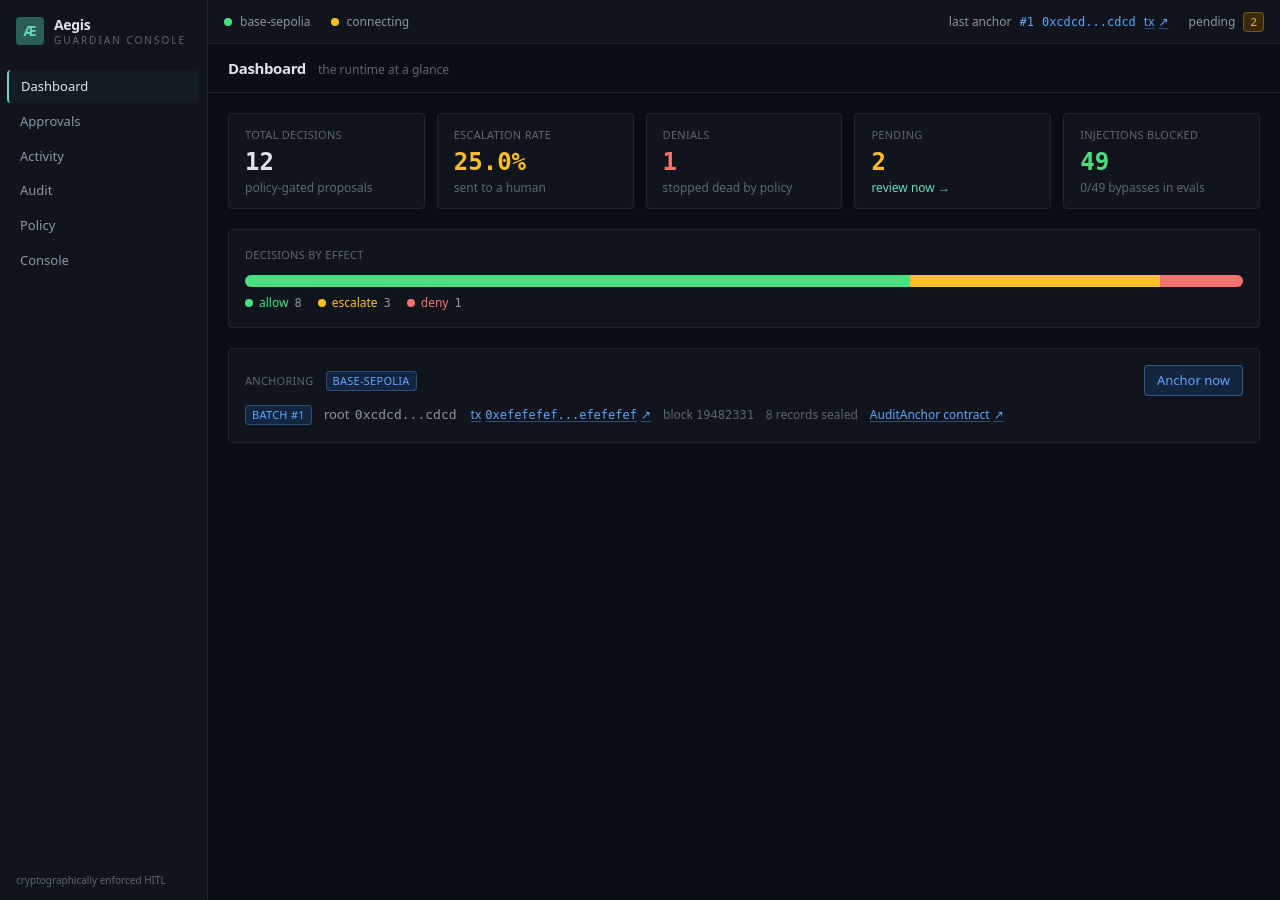
Test case: DashboardPage › anchors on demand and shows the new transaction link
Click the button "Anchor now". click: x=1193, y=381
box: [1144,365,1243,396]
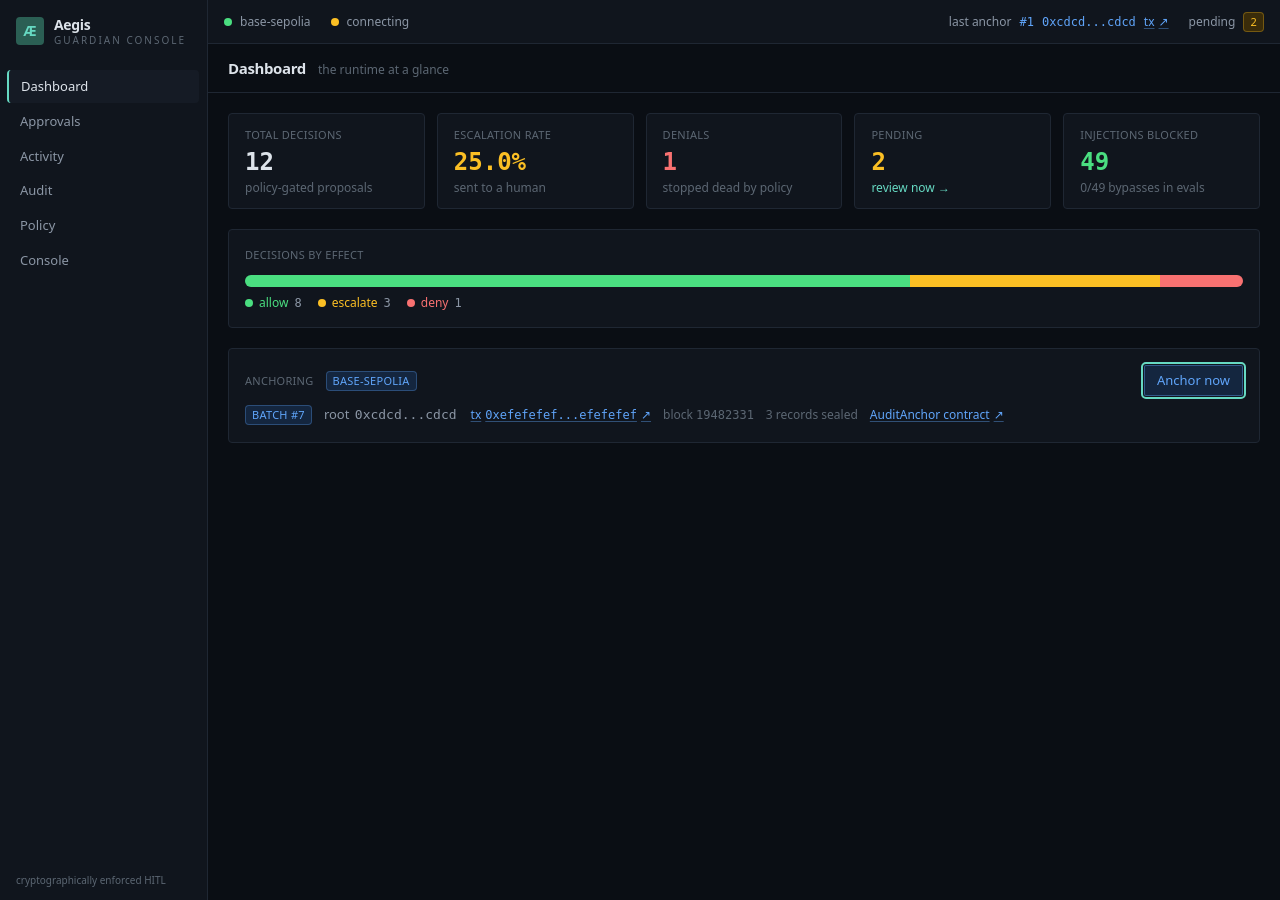
Expected: the text "3 records sealed" is shown, [766,407,858,423]
Result: the text "batch #7" is shown at [245,405,312,425]
